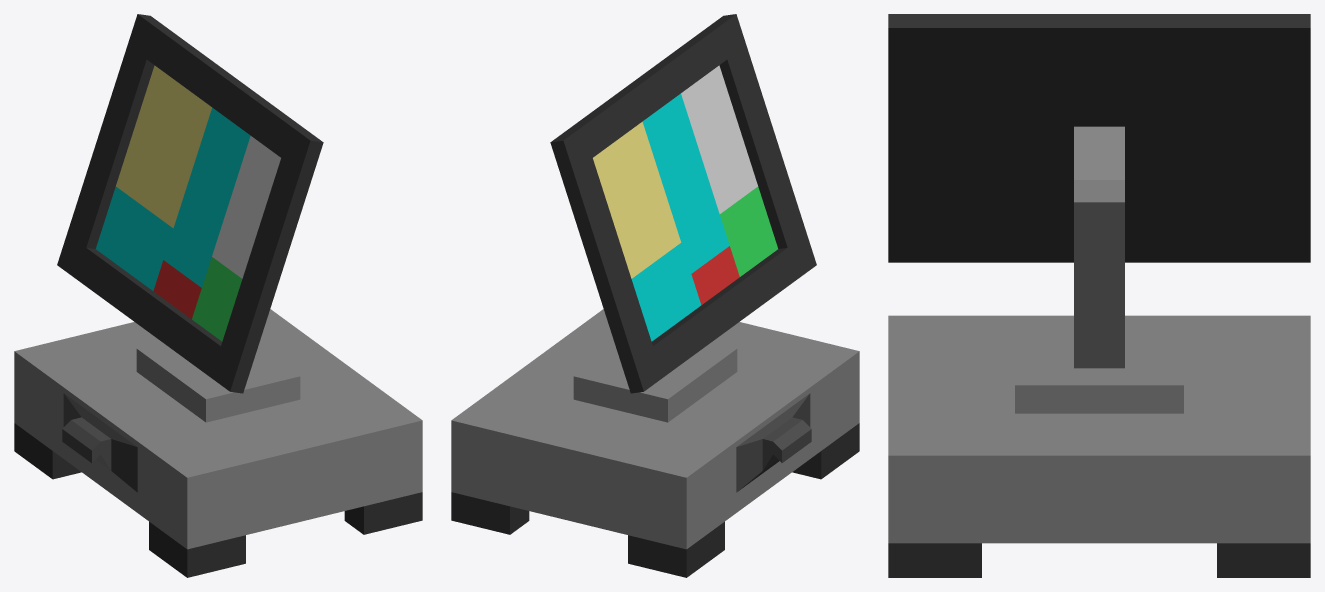
Rendered from Cash Register.fbx.
3 renders of one model, left to right at view 1: azimuth 30°, elevation 25°; view 2: azimuth 150°, elevation 25°; view 3: azimuth 270°, elevation 25°, orthographic. The views are drawn at different scales.
Visible parts, largest first — view 1: Cash Register, Cash Register Tray; view 2: Cash Register, Cash Register Tray; view 3: Cash Register.
Part boxes in pixels (x1,y1,x2,y2): Cash Register: (14, 14, 422, 577); Cash Register Tray: (23, 363, 178, 522); Cash Register: (451, 14, 859, 577); Cash Register Tray: (695, 363, 850, 522); Cash Register: (888, 14, 1310, 577).
Bounding box in the file's own units: 951 × 1428 × 1100.
